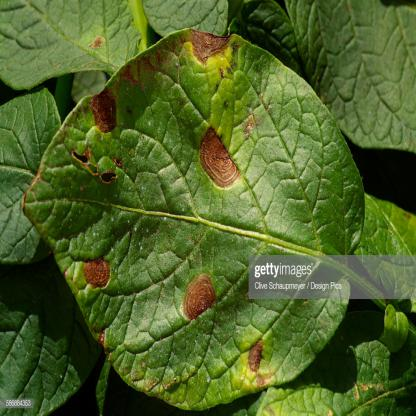potato leaf early blight: (23, 28, 367, 408)
